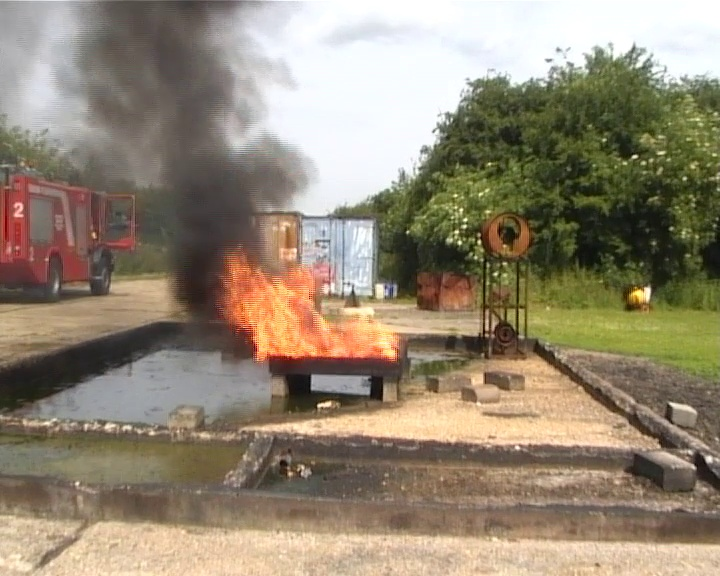fire: (224, 258, 395, 357)
